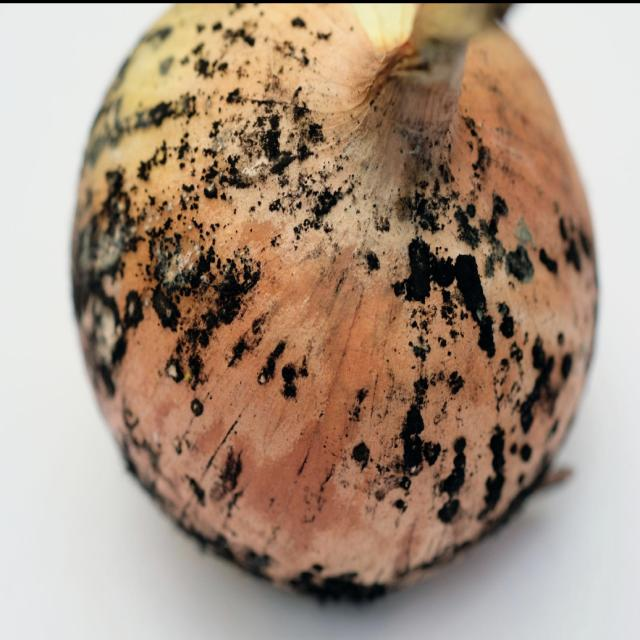mechanical_damage: (74, 5, 597, 598)
